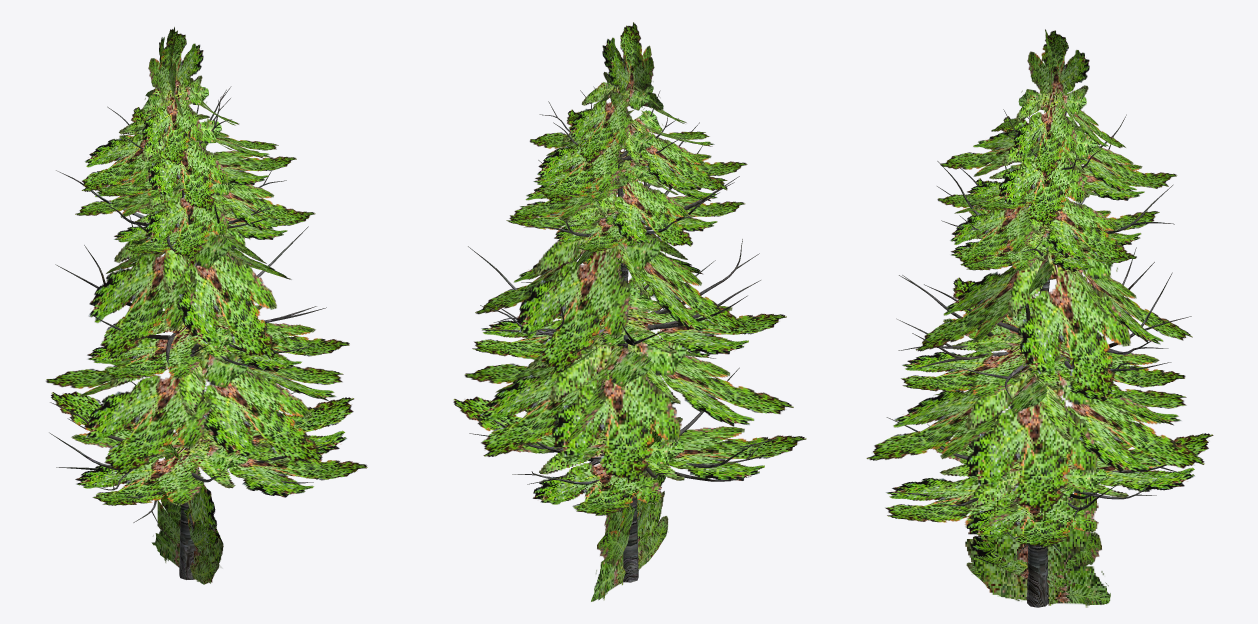
Rendered from firtree.glb.
3 views of the same model, side by side, from view 1: azimuth 30°, elevation 25°; view 2: azimuth 150°, elevation 25°; view 3: azimuth 270°, elevation 25° (orthographic). The views are drawn at different scales.
Visible parts, largest first — view 1: pixel_art_large(3).034, pixel_art_large(3).033, pixel_art_large(3).028, pixel_art_large(3).027, pixel_art_large(3).002, tree, pixel_art_large(3).004, pixel_art_large(3).007, pixel_art_large(3).017, pixel_art_large(3).024, pixel_art_large(3).020, pixel_art_large(3).005 (+17 smaller); view 2: pixel_art_large(3).035, pixel_art_large(3).029, pixel_art_large(3).036, pixel_art_large(3).003, tree, pixel_art_large(3).002, pixel_art_large(3).034, pixel_art_large(3).007, pixel_art_large(3).027, pixel_art_large(3).025, pixel_art_large(3).015, pixel_art_large(3).021 (+16 smaller); view 3: pixel_art_large(3).032, pixel_art_large(3).030, pixel_art_large(3).036, pixel_art_large(3).033, tree, pixel_art_large(3).001, pixel_art_large(3).005, pixel_art_large(3), pixel_art_large(3).018, pixel_art_large(3).004, pixel_art_large(3).028, pixel_art_large(3).019 (+17 smaller).
Part boxes in pixels (<box>): pixel_art_large(3).034: <box>84,347,248,474</box>; pixel_art_large(3).033: <box>178,346,322,461</box>; pixel_art_large(3).028: <box>162,229,276,359</box>; pixel_art_large(3).027: <box>88,234,229,358</box>; pixel_art_large(3).002: <box>75,436,249,505</box>; tree: <box>49,86,340,579</box>; pixel_art_large(3).004: <box>190,429,367,497</box>; pixel_art_large(3).007: <box>87,316,233,378</box>; pixel_art_large(3).017: <box>141,118,228,210</box>; pixel_art_large(3).024: <box>145,179,236,258</box>; pixel_art_large(3).020: <box>142,84,208,165</box>; pixel_art_large(3).005: <box>191,311,349,371</box>; pixel_art_large(3).035: <box>549,339,687,482</box>; pixel_art_large(3).029: <box>516,234,660,373</box>; pixel_art_large(3).036: <box>480,337,652,456</box>; pixel_art_large(3).003: <box>533,438,684,515</box>; tree: <box>468,86,776,582</box>; pixel_art_large(3).002: <box>644,424,806,481</box>; pixel_art_large(3).034: <box>627,330,793,426</box>; pixel_art_large(3).007: <box>625,291,786,354</box>; pixel_art_large(3).027: <box>616,226,746,332</box>; pixel_art_large(3).025: <box>597,165,692,246</box>; pixel_art_large(3).015: <box>537,127,654,204</box>; pixel_art_large(3).021: <box>569,82,649,162</box>; pixel_art_large(3).032: <box>965,370,1097,513</box>; pixel_art_large(3).030: <box>1008,252,1130,397</box>; pixel_art_large(3).036: <box>1033,377,1204,473</box>; pixel_art_large(3).033: <box>866,367,1047,460</box>; tree: <box>886,92,1191,607</box>; pixel_art_large(3).001: <box>965,467,1106,547</box>; pixel_art_large(3).005: <box>901,332,1070,398</box>; pixel_art_large(3): <box>965,459,1106,607</box>; pixel_art_large(3).018: <box>999,133,1098,225</box>; pixel_art_large(3).004: <box>885,460,1074,529</box>; pixel_art_large(3).028: <box>915,251,1053,351</box>; pixel_art_large(3).019: <box>1013,92,1086,176</box>.
Size of the model in its own units: 3.38 by 5.45 by 3.46.
37 materials, 37 textured.
